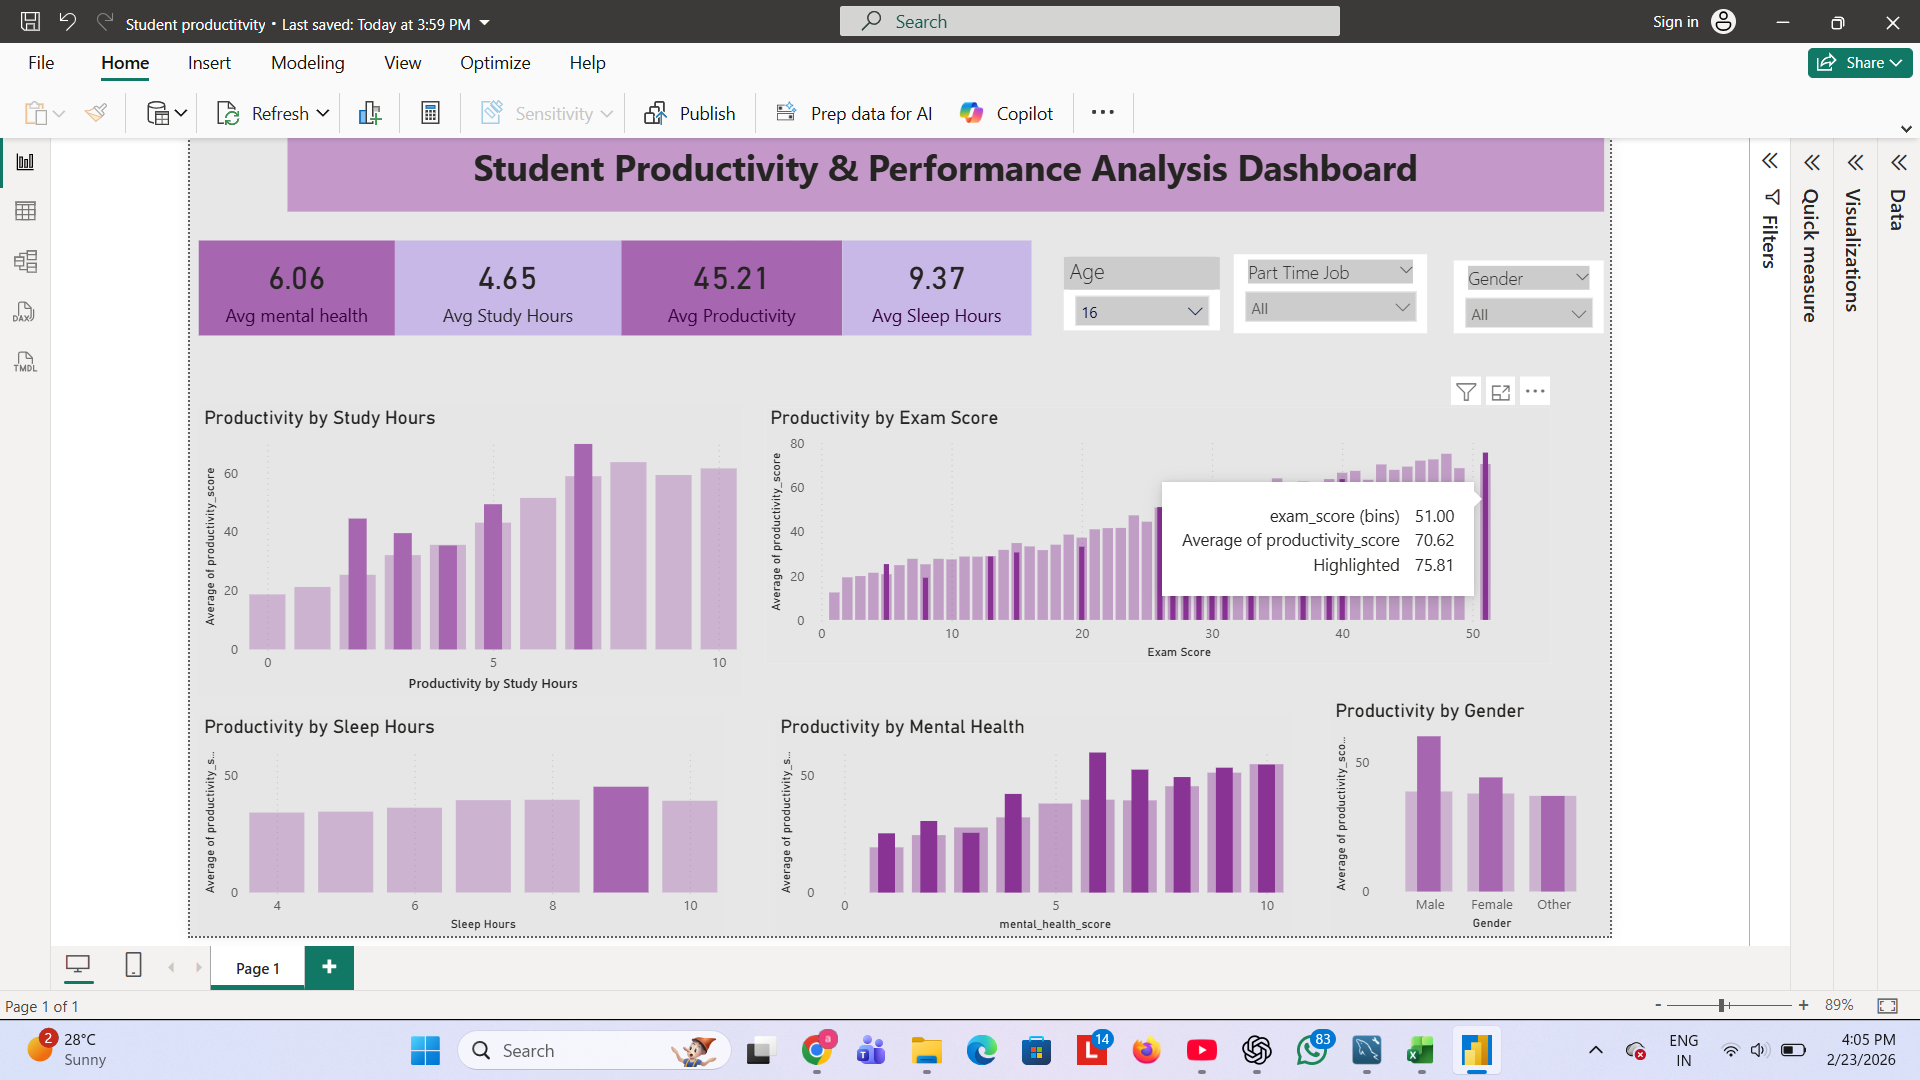

Layout of this report page (visuals, bound fields, positions):
{"tool":"powerbi","page":{"name":"Page 1","canvas":[1280,720],"ordinal":0},"visuals":[{"type":"card","fields":{"Values":["student_productivity_dataset.Avg mental health"]},"box":[7.9,92.4,177,85.7],"z":0},{"type":"card","fields":{"Values":["student_productivity_dataset.Avg Productivity"]},"box":[388.9,92.4,199.5,85.7],"z":1},{"type":"card","fields":{"Values":["student_productivity_dataset.Avg Sleep Hours"]},"box":[588.4,92.4,170.2,85.7],"z":2},{"type":"card","fields":{"Values":["student_productivity_dataset.Avg Study Hours"]},"box":[184.8,92.4,204,85.7],"z":3},{"type":"clusteredColumnChart","title":"Productivity by Study Hours","fields":{"Category":["student_productivity_dataset.study_hours (bins) 2"],"Y":["Avg(student_productivity_dataset.productivity_score)"]},"box":[7.5,242,490.3,262],"z":4},{"type":"clusteredColumnChart","title":"Productivity by Sleep Hours","fields":{"Category":["student_productivity_dataset.sleep_hours (bins)"],"Y":["Avg(student_productivity_dataset.productivity_score)"]},"box":[7.5,520.2,472.8,199.6],"z":5},{"type":"clusteredColumnChart","title":"Productivity by Mental Health","fields":{"Category":["student_productivity_dataset.mental_health_score"],"Y":["Avg(student_productivity_dataset.productivity_score)"]},"box":[527.7,520.2,465.3,199.6],"z":6},{"type":"clusteredColumnChart","title":"Productivity by Gender","fields":{"Y":["Avg(student_productivity_dataset.productivity_score)"],"Category":["student_productivity_dataset.gender"]},"box":[1028,506.5,252,213.3],"z":7},{"type":"clusteredColumnChart","title":"Productivity by Exam Score","fields":{"Y":["Avg(student_productivity_dataset.productivity_score)"],"Category":["student_productivity_dataset.exam_score (bins)"]},"box":[518.5,242.3,709,232.2],"z":8},{"type":"slicer","title":"Age","fields":{"Values":["student_productivity_dataset.age"]},"box":[787.9,107.1,140.9,66.5],"z":9},{"type":"slicer","fields":{"Values":["student_productivity_dataset.part_time_job"]},"box":[941.1,104.8,174.7,71],"z":10},{"type":"slicer","fields":{"Values":["student_productivity_dataset.gender"]},"box":[1139.5,110.5,135.3,65.4],"z":11},{"type":"textbox","box":[87.9,0,1186.9,66.5],"z":13}]}

Visuals, with their boxes on the page's 1280x720 design canvas (x1, y1, x2, y2). These are canvas units, not pixel positions in the 1920x1080 screenshot, which may show the page scaled, cropped or inside an application window:
card - student_productivity_dataset.Avg mental health: (8, 92, 185, 178)
card - student_productivity_dataset.Avg Productivity: (389, 92, 588, 178)
card - student_productivity_dataset.Avg Sleep Hours: (588, 92, 759, 178)
card - student_productivity_dataset.Avg Study Hours: (185, 92, 389, 178)
"Productivity by Study Hours" clusteredColumnChart: (8, 242, 498, 504)
"Productivity by Sleep Hours" clusteredColumnChart: (8, 520, 480, 720)
"Productivity by Mental Health" clusteredColumnChart: (528, 520, 993, 720)
"Productivity by Gender" clusteredColumnChart: (1028, 506, 1280, 720)
"Productivity by Exam Score" clusteredColumnChart: (518, 242, 1228, 474)
"Age" slicer: (788, 107, 929, 174)
slicer - student_productivity_dataset.part_time_job: (941, 105, 1116, 176)
slicer - student_productivity_dataset.gender: (1140, 110, 1275, 176)
textbox: (88, 0, 1275, 66)
